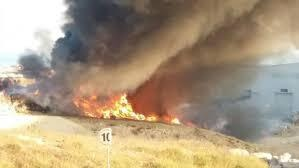fire: (78, 90, 191, 124)
